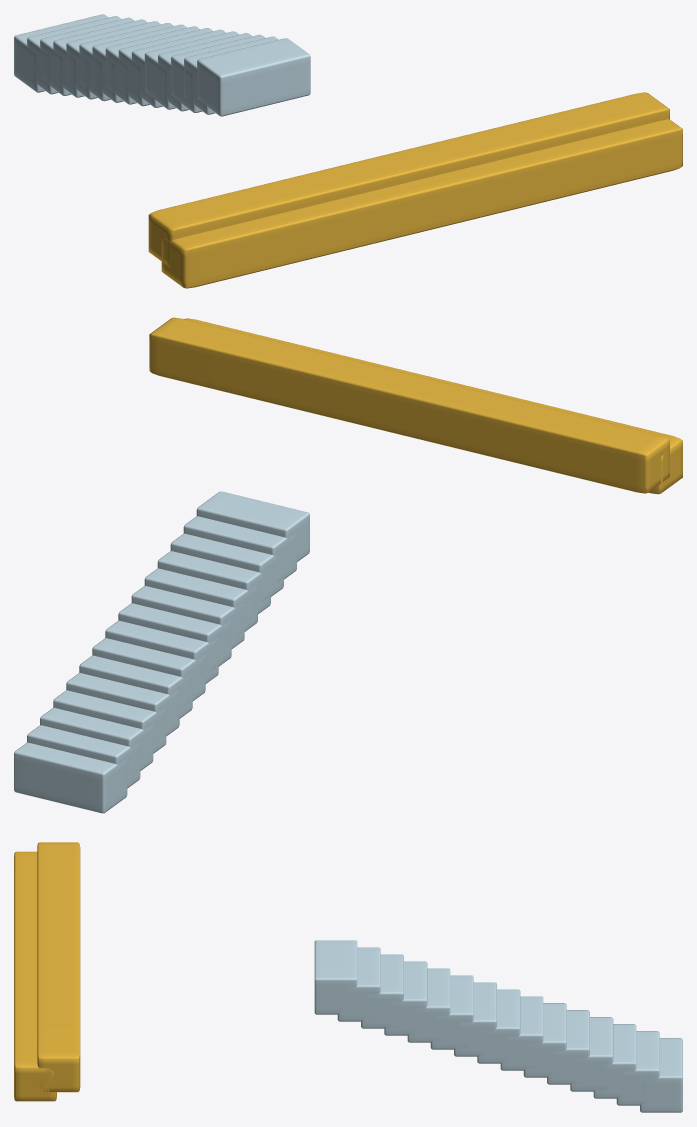
The model's file is 3_stair.fbx.
3 renders of one model, top to bottom at view 1: azimuth 30°, elevation 25°; view 2: azimuth 150°, elevation 25°; view 3: azimuth 270°, elevation 25°, orthographic. The views are drawn at different scales.
Visible parts, largest first — view 1: stair16, stair17, stair14, stair, stair10, stair12, stair2, stair7, stair5, stair4, stair8, stair3 (+5 smaller); view 2: stair17, stair, stair14, stair8, stair2, stair13, stair10, stair6, stair5, stair12, stair4, stair9 (+5 smaller); view 3: stair17, stair16, stair14, stair, stair11, stair6, stair13, stair3, stair9, stair8, stair4, stair1 (+5 smaller).
Boxes of the visible parts, <box> form: stair16: <box>161,119,682,288</box>; stair17: <box>148,92,669,267</box>; stair14: <box>197,38,310,116</box>; stair: <box>14,14,108,92</box>; stair10: <box>144,31,238,109</box>; stair12: <box>171,34,264,112</box>; stair2: <box>40,17,134,95</box>; stair7: <box>105,26,199,104</box>; stair5: <box>79,23,173,101</box>; stair4: <box>66,21,160,99</box>; stair8: <box>118,28,212,106</box>; stair3: <box>53,19,147,97</box>; stair17: <box>149,317,669,493</box>; stair: <box>14,742,127,813</box>; stair14: <box>196,491,309,561</box>; stair8: <box>118,603,231,671</box>; stair2: <box>40,707,153,776</box>; stair13: <box>183,516,296,583</box>; stair10: <box>144,568,257,637</box>; stair6: <box>92,638,205,706</box>; stair5: <box>79,655,192,723</box>; stair12: <box>170,533,283,602</box>; stair4: <box>66,673,179,739</box>; stair9: <box>131,586,244,651</box>; stair17: <box>37,842,80,1092</box>; stair16: <box>14,851,56,1101</box>; stair14: <box>314,940,357,1014</box>; stair: <box>640,1038,682,1112</box>; stair11: <box>384,961,427,1035</box>; stair6: <box>500,996,543,1070</box>; stair13: <box>337,947,380,1021</box>; stair3: <box>570,1017,613,1091</box>; stair9: <box>430,975,473,1049</box>; stair8: <box>454,982,496,1056</box>; stair4: <box>547,1010,589,1084</box>; stair1: <box>616,1031,659,1105</box>.
Size of the model in its own units: 44.33 by 13.76 by 57.85.
